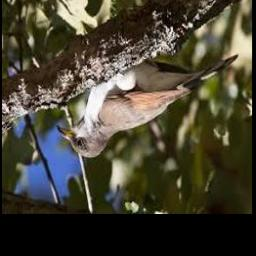Cuckoo: (56, 53, 237, 158)
